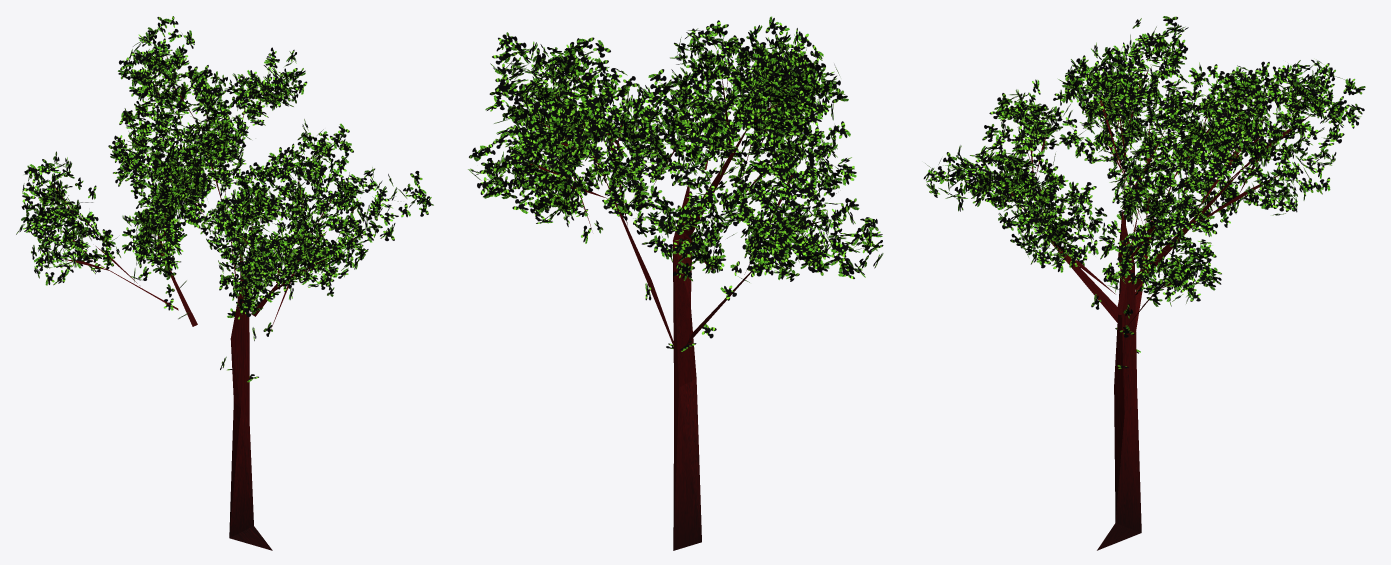
The model's file is emergent_fig_v02_LOD2.glb.
3 views of the same model, side by side, from view 1: azimuth 30°, elevation 25°; view 2: azimuth 150°, elevation 25°; view 3: azimuth 270°, elevation 25° (orthographic). The views are drawn at different scales.
Visible parts, largest first — view 1: emergent_fig_v02_LOD2; view 2: emergent_fig_v02_LOD2; view 3: emergent_fig_v02_LOD2.
Part boxes in pixels (<box>): emergent_fig_v02_LOD2: <box>16,16,433,550</box>; emergent_fig_v02_LOD2: <box>468,16,883,550</box>; emergent_fig_v02_LOD2: <box>923,16,1365,550</box>.
Bounding box in the file's own units: 34.75 × 43.85 × 37.94.
Materials: 2 (2 with a texture image).
